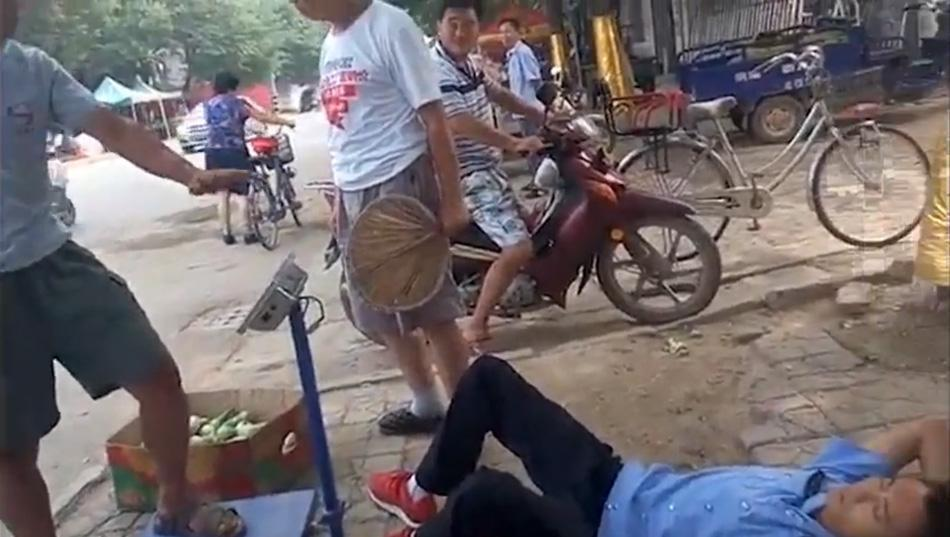Fall-Detected: (347, 343, 931, 537)
